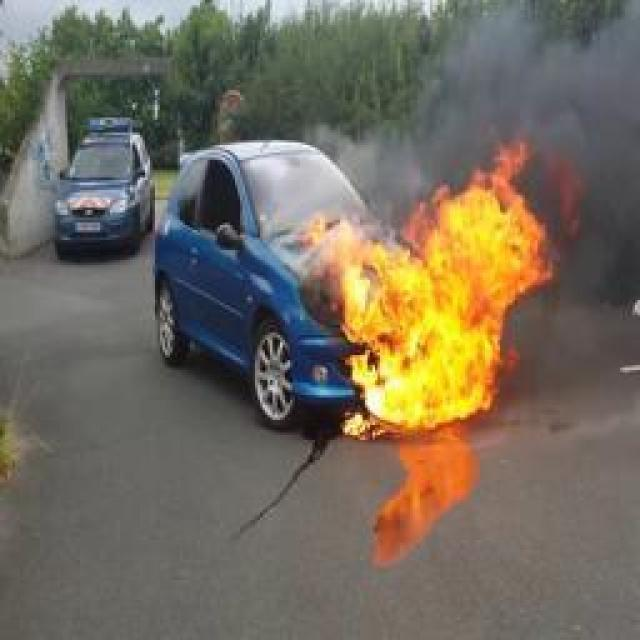Fire: (300, 136, 560, 439)
